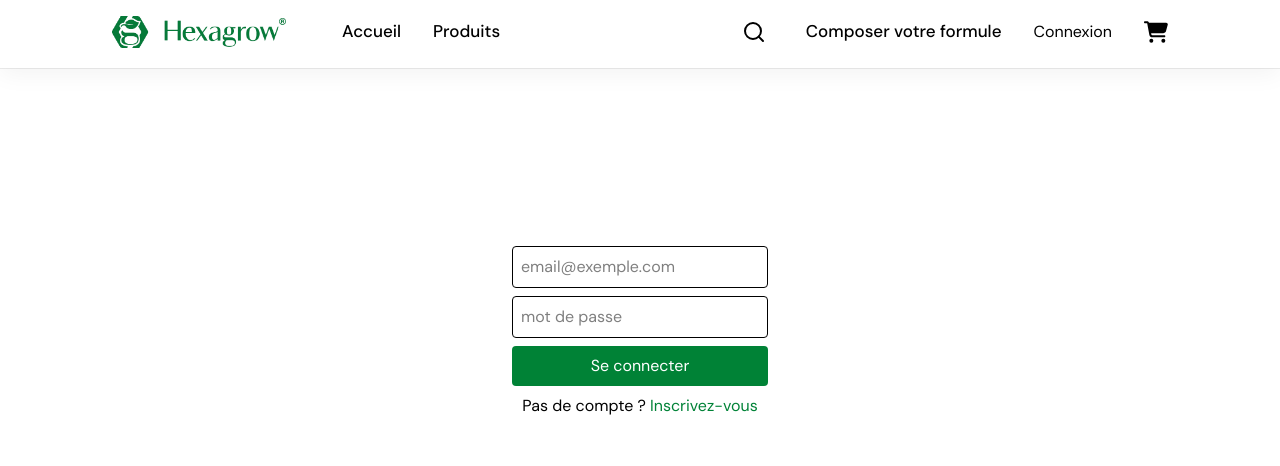
Test: Authentication - Register › conserve les données saisies lors du basculement entre les formulaires
The image size is (1280, 466).
Expected: the form is shown, [512,246,768,418]
Remplir le formulaire de connexion
Type "test@example.com" into the field named "email" at (640, 267), box [512,246,768,288]
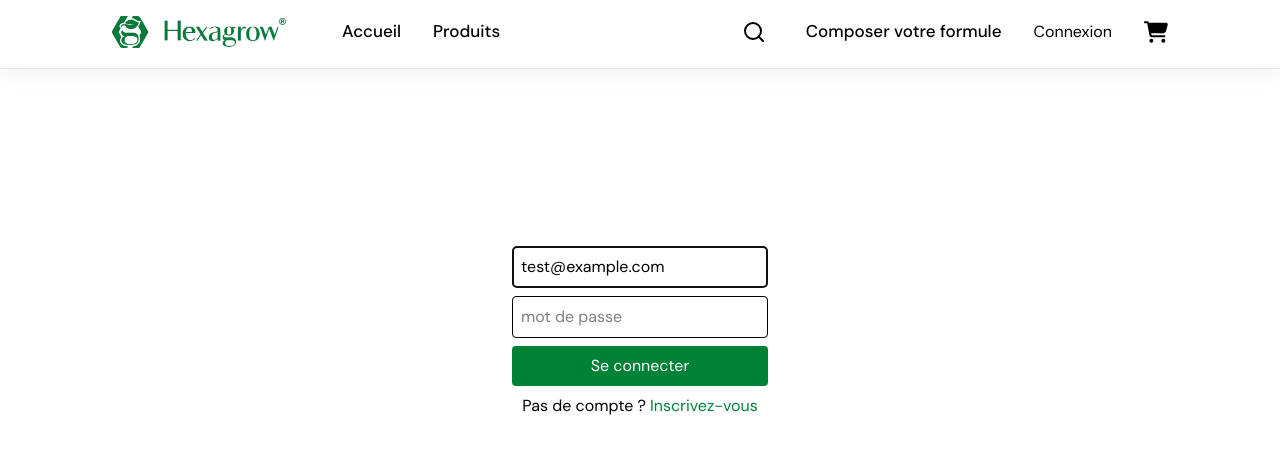
Type "Password123!" into the password field named "password" at (640, 317), box [512,296,768,338]
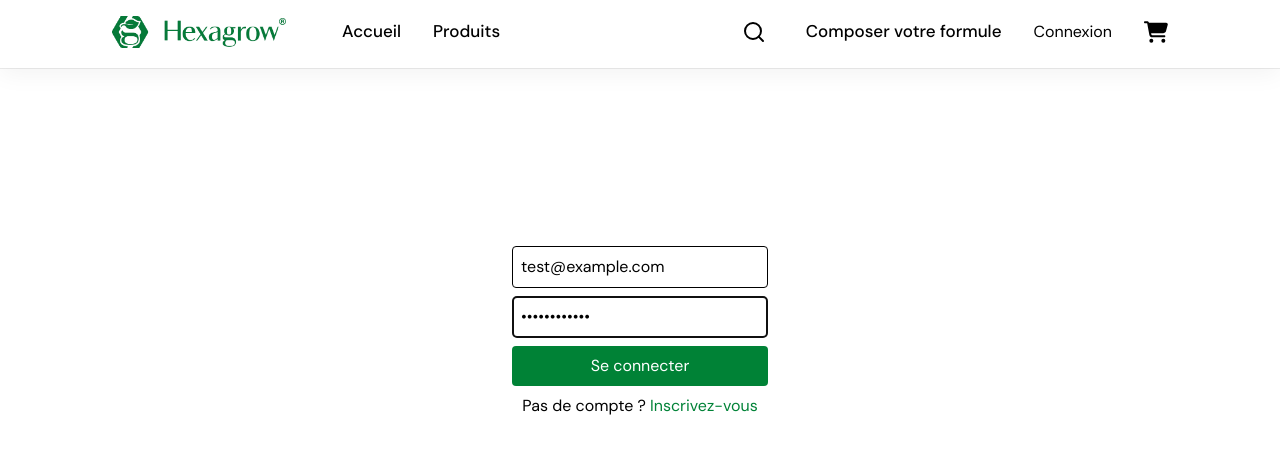
Basculer vers inscription
Click the button with test id "switch-to-register" at (704, 406), box [650,394,758,418]
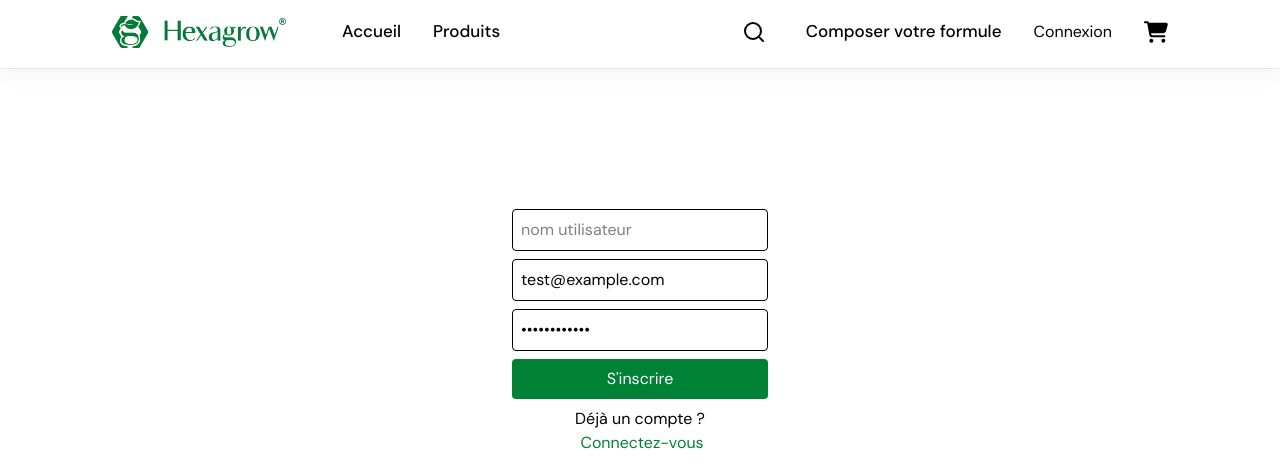
Result: the field named "email" holds "test@example.com" at [512,259,768,301]
Result: the password field named "password" holds "Password123!" at [512,309,768,351]
